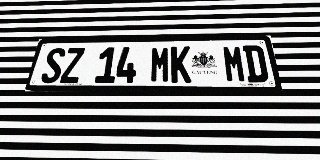1: (95, 47, 118, 83)
4: (115, 47, 137, 83)
D: (242, 45, 269, 82)
K: (171, 46, 191, 83)
M: (222, 45, 247, 83), (150, 46, 170, 83)
S: (40, 48, 66, 83)
Z: (60, 48, 85, 83)
